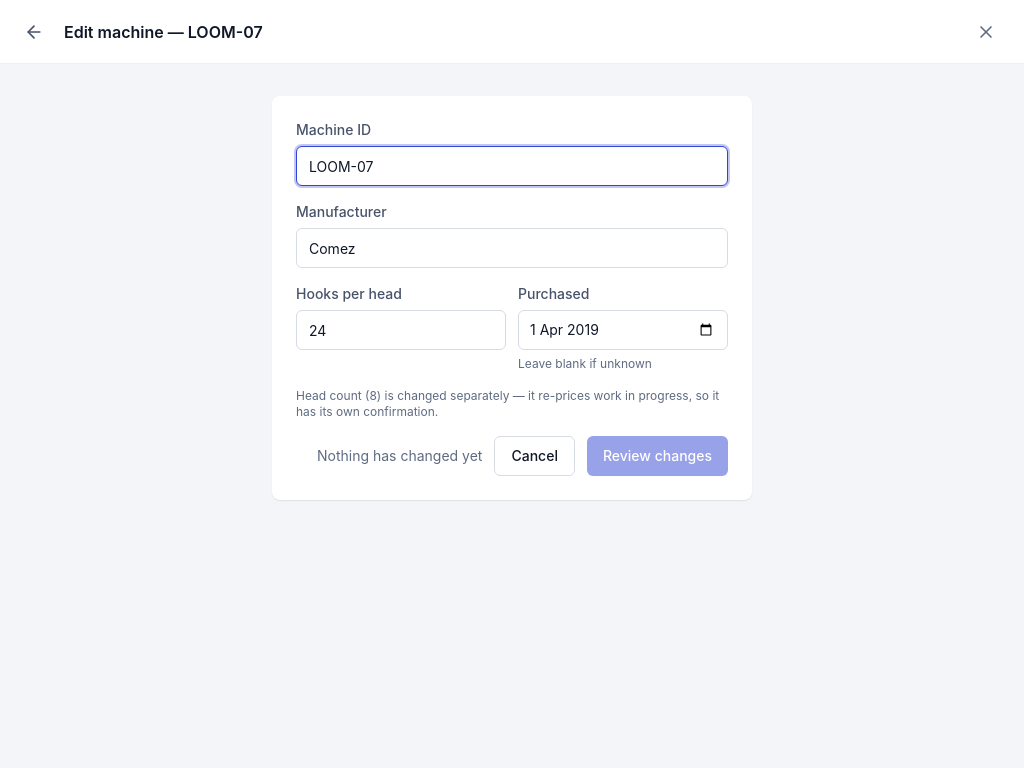
Scenario: the confirmation › lists the field that changed, old beside new
Replace the text in the field labelled "Manufacturer" with "Jakob Muller" at (512, 248), box x1=296 y1=228 x2=728 y2=268
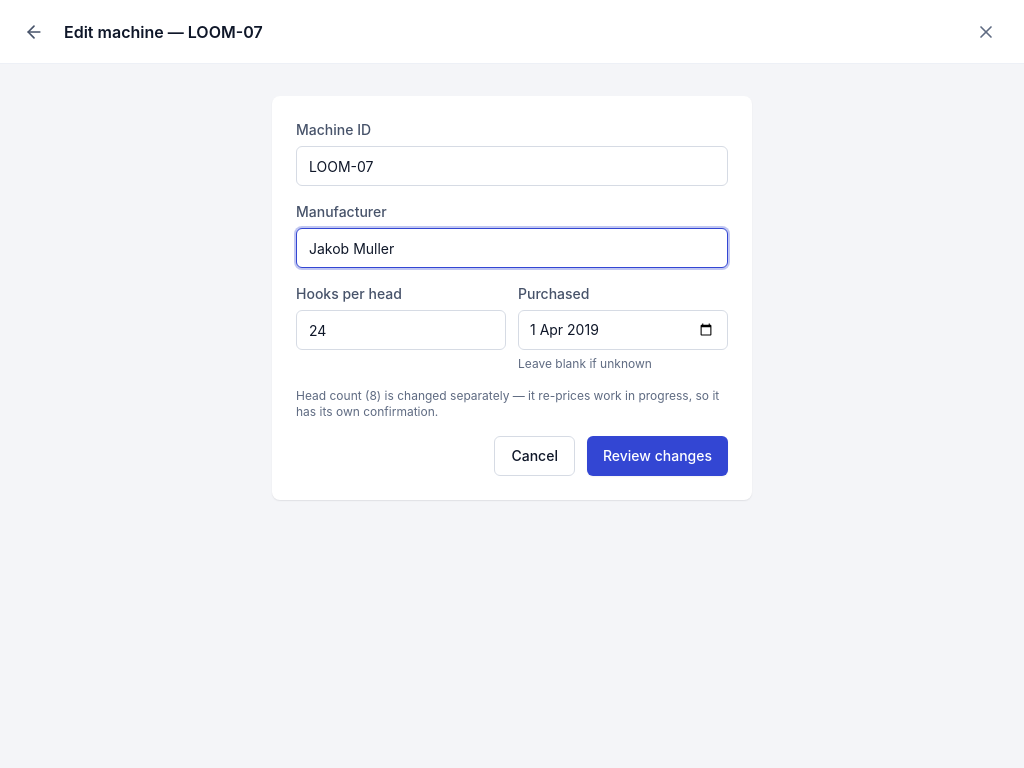
Click the button "Review changes" at (657, 456), box x1=587 y1=436 x2=728 y2=476
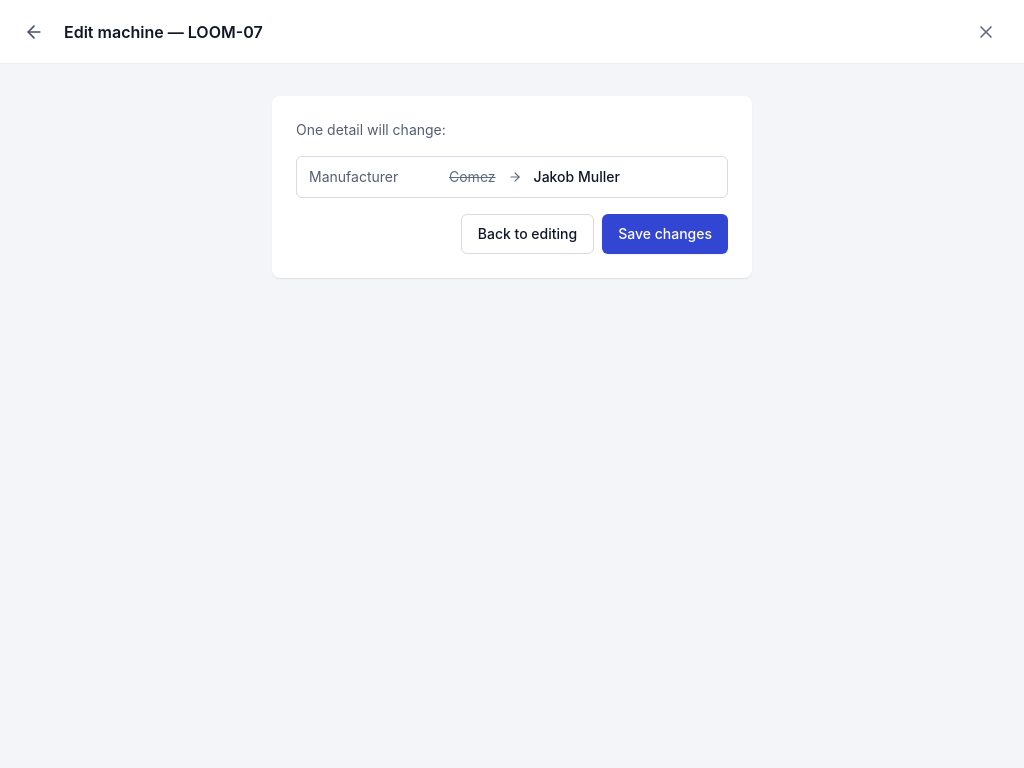
Check: the text "One detail will change:" is shown, box x1=296 y1=121 x2=446 y2=138
Check: the text "Comez" is shown, box x1=449 y1=167 x2=496 y2=187
Check: the text "Jakob Muller" is shown, box x1=534 y1=167 x2=620 y2=187
